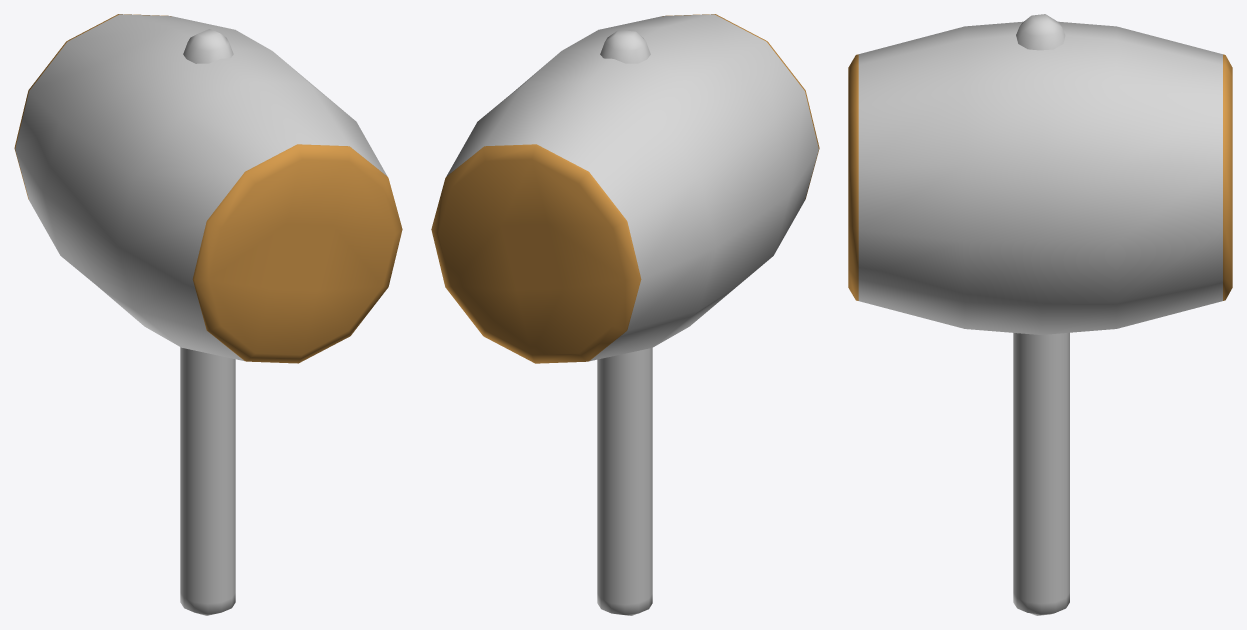
Rendered from hammerp.fbx.
The picture shows the model from 3 angles, left to right: view 1: azimuth 30°, elevation 25°; view 2: azimuth 150°, elevation 25°; view 3: azimuth 270°, elevation 25°; orthographic projection. The views are drawn at different scales.
Parts seen in each view (by area): view 1: Cylinder.000; view 2: Cylinder.000; view 3: Cylinder.000.
Boxes of the visible parts, x1,y1,x2,y2 form: Cylinder.000: (14, 14, 402, 615); Cylinder.000: (431, 14, 819, 615); Cylinder.000: (848, 14, 1232, 615).
Size of the model in its own units: 164 by 354 by 208.
